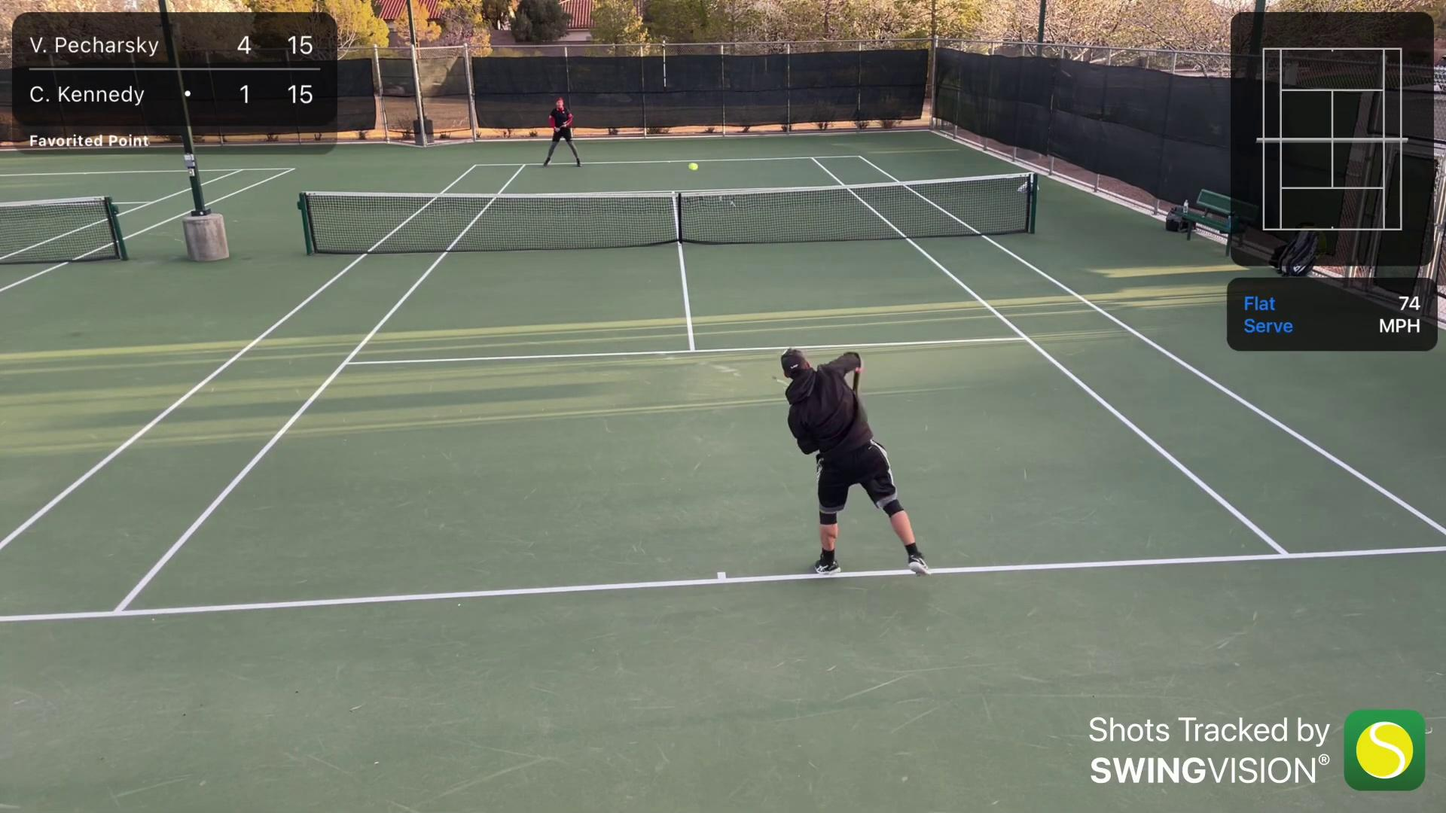ball: (685, 162, 702, 172)
